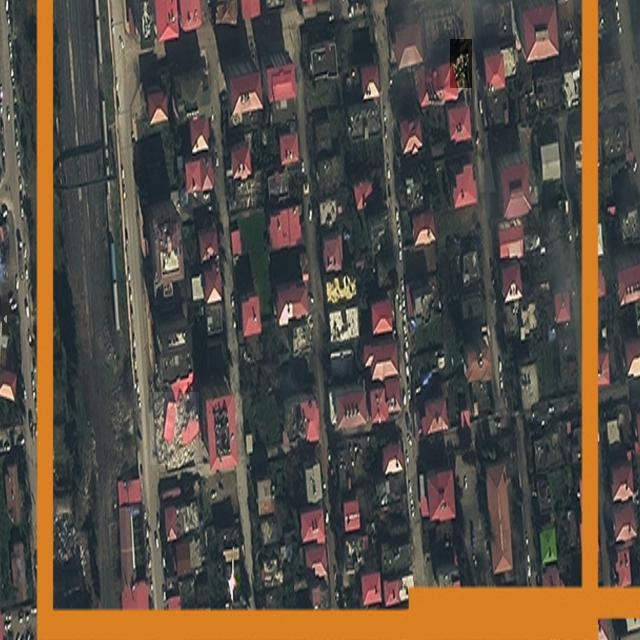Rubble: (150, 392, 199, 465), (450, 39, 472, 88)
